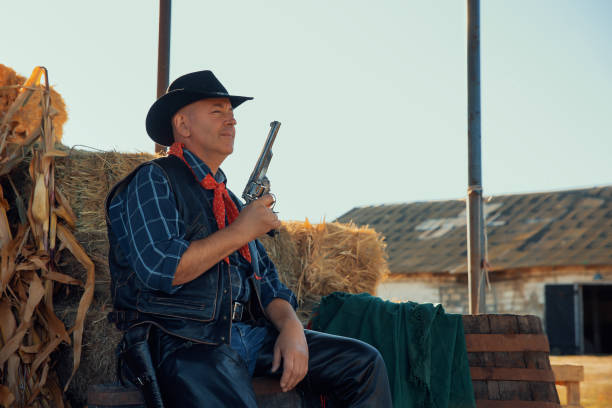gun: (240, 119, 284, 240)
